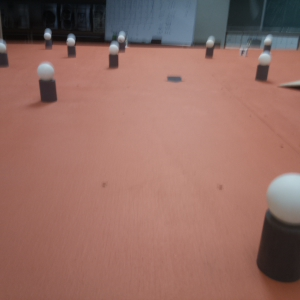blockF: (238, 47, 250, 58)
obstacle: (253, 172, 300, 281), (37, 63, 58, 103), (253, 53, 272, 82), (109, 43, 120, 70), (67, 35, 78, 59), (205, 34, 215, 57), (1, 40, 9, 66), (44, 30, 54, 49), (263, 35, 272, 53), (118, 33, 127, 51)
start: (164, 74, 183, 85)
